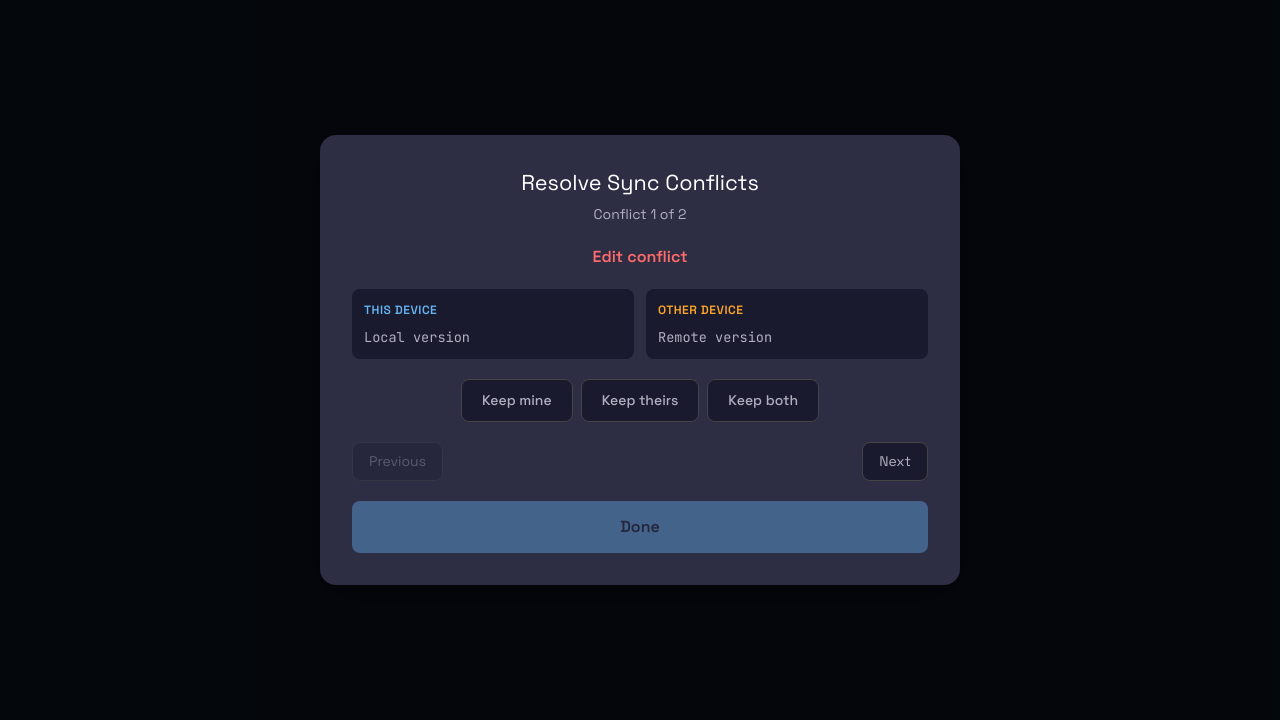
Test case: ConflictResolver › disables Done button until all conflicts are resolved
Expected: the button with test id "conflict-done-btn" is disabled, [352,501,928,553]
// Resolve the first conflict
What coordinates should you click on to do the following:
click the button with test id "keep-local-btn"
I would click on:
 (517, 400)
Its box is [461,379,573,422].
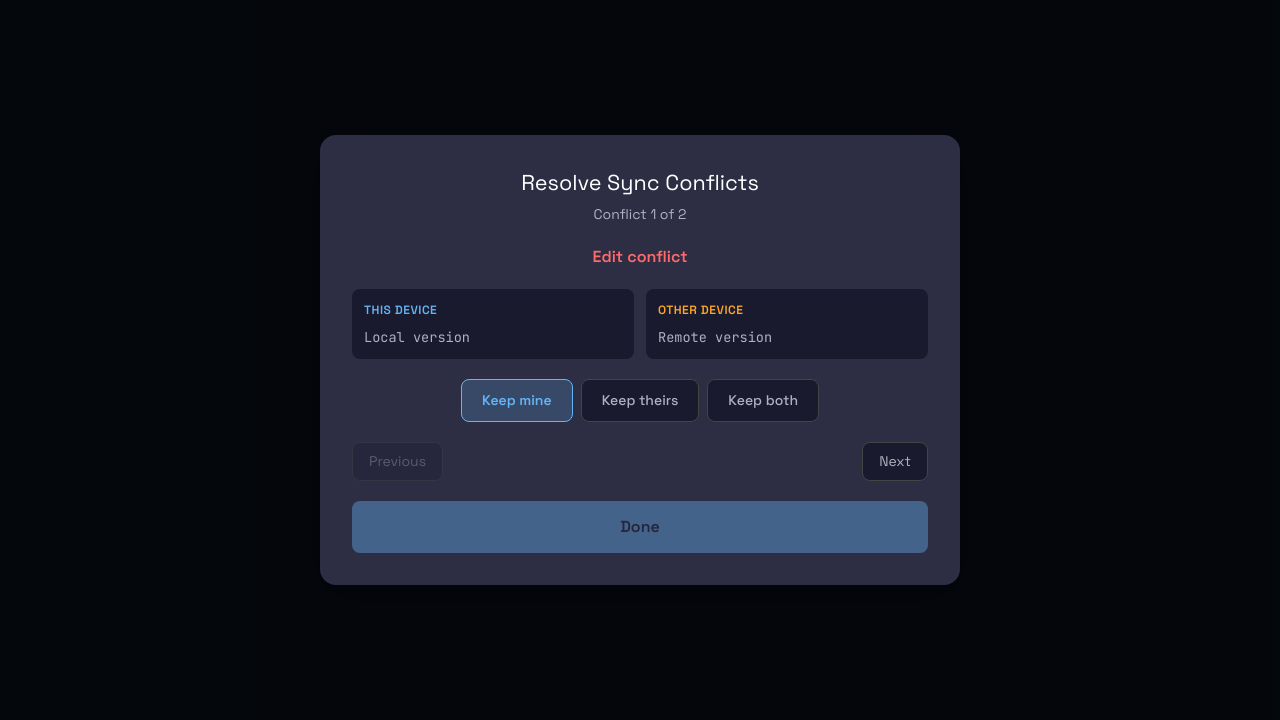
Expected: the button with test id "conflict-done-btn" is disabled, [352,501,928,553]
// Navigate to the second conflict
What coordinates should you click on to do the following:
click the button with class "nav-btn" showing "Next"
I would click on:
 (895, 461)
Its box is [862,442,928,481].
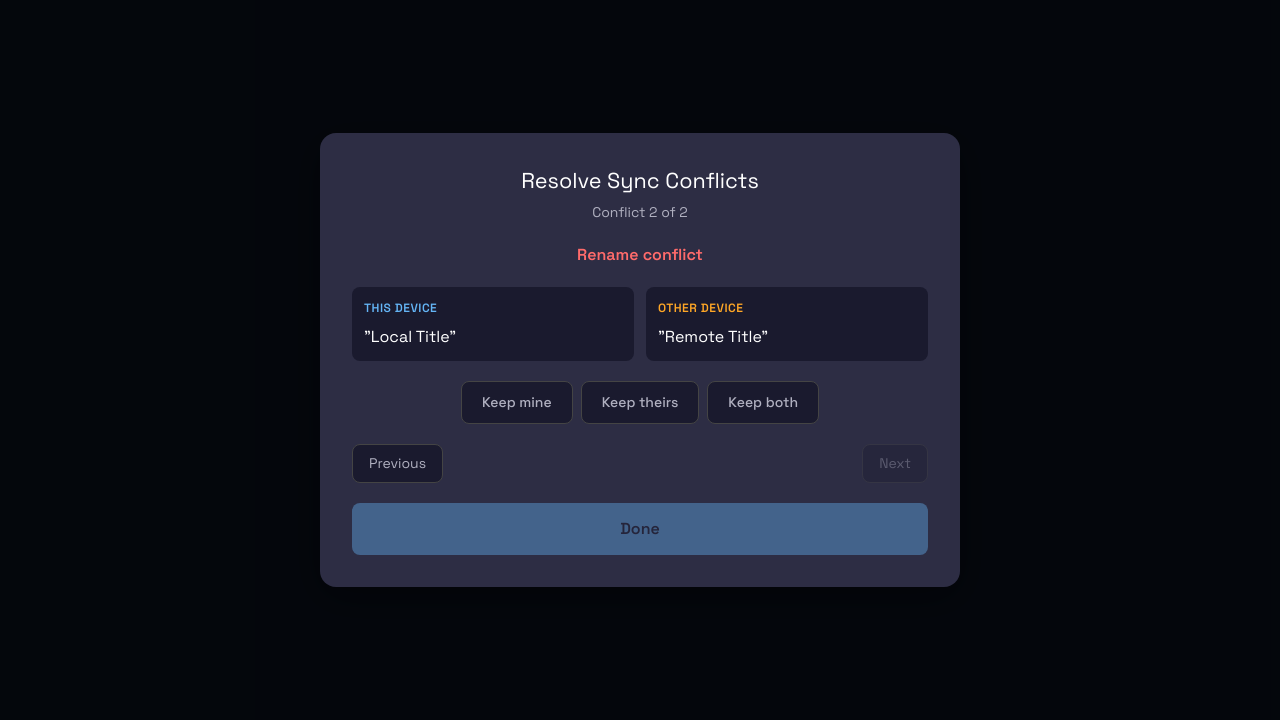
// Resolve the second conflict
What coordinates should you click on to do the following:
click the button with test id "keep-remote-btn"
I would click on:
 (640, 402)
Its box is [581,381,699,424].
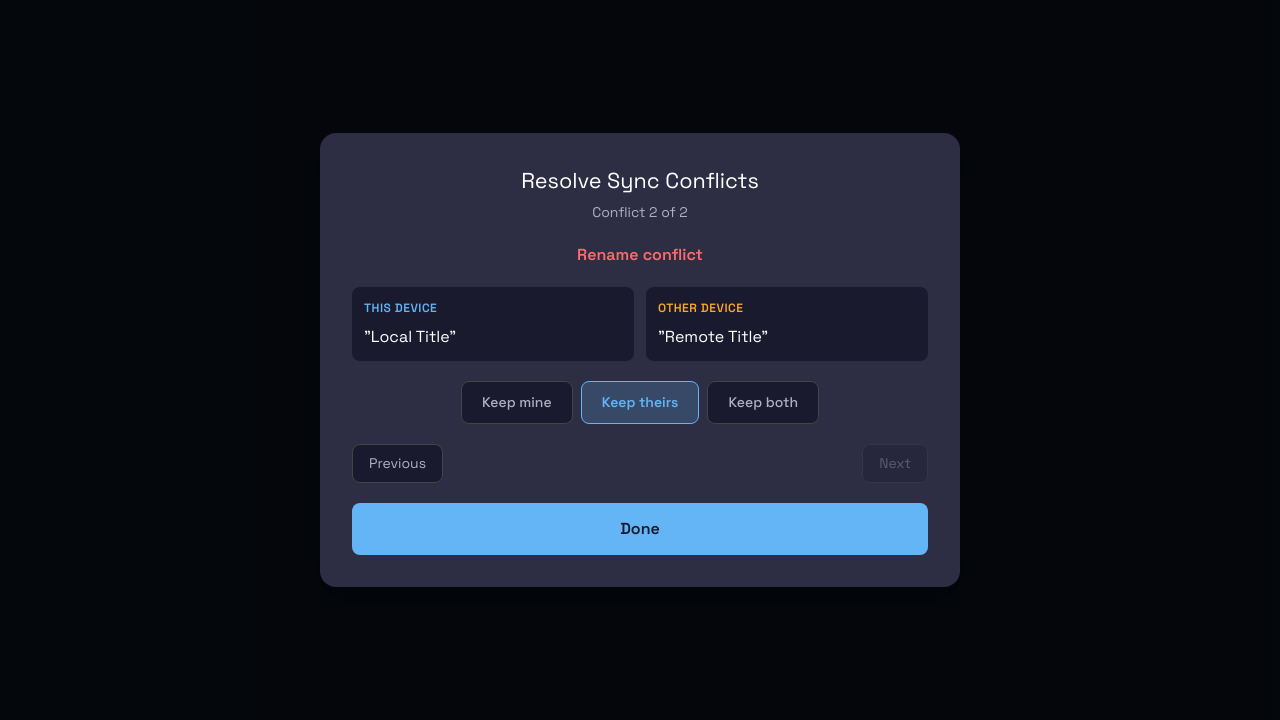
Expected: the button with test id "conflict-done-btn" is enabled, [352,503,928,555]
